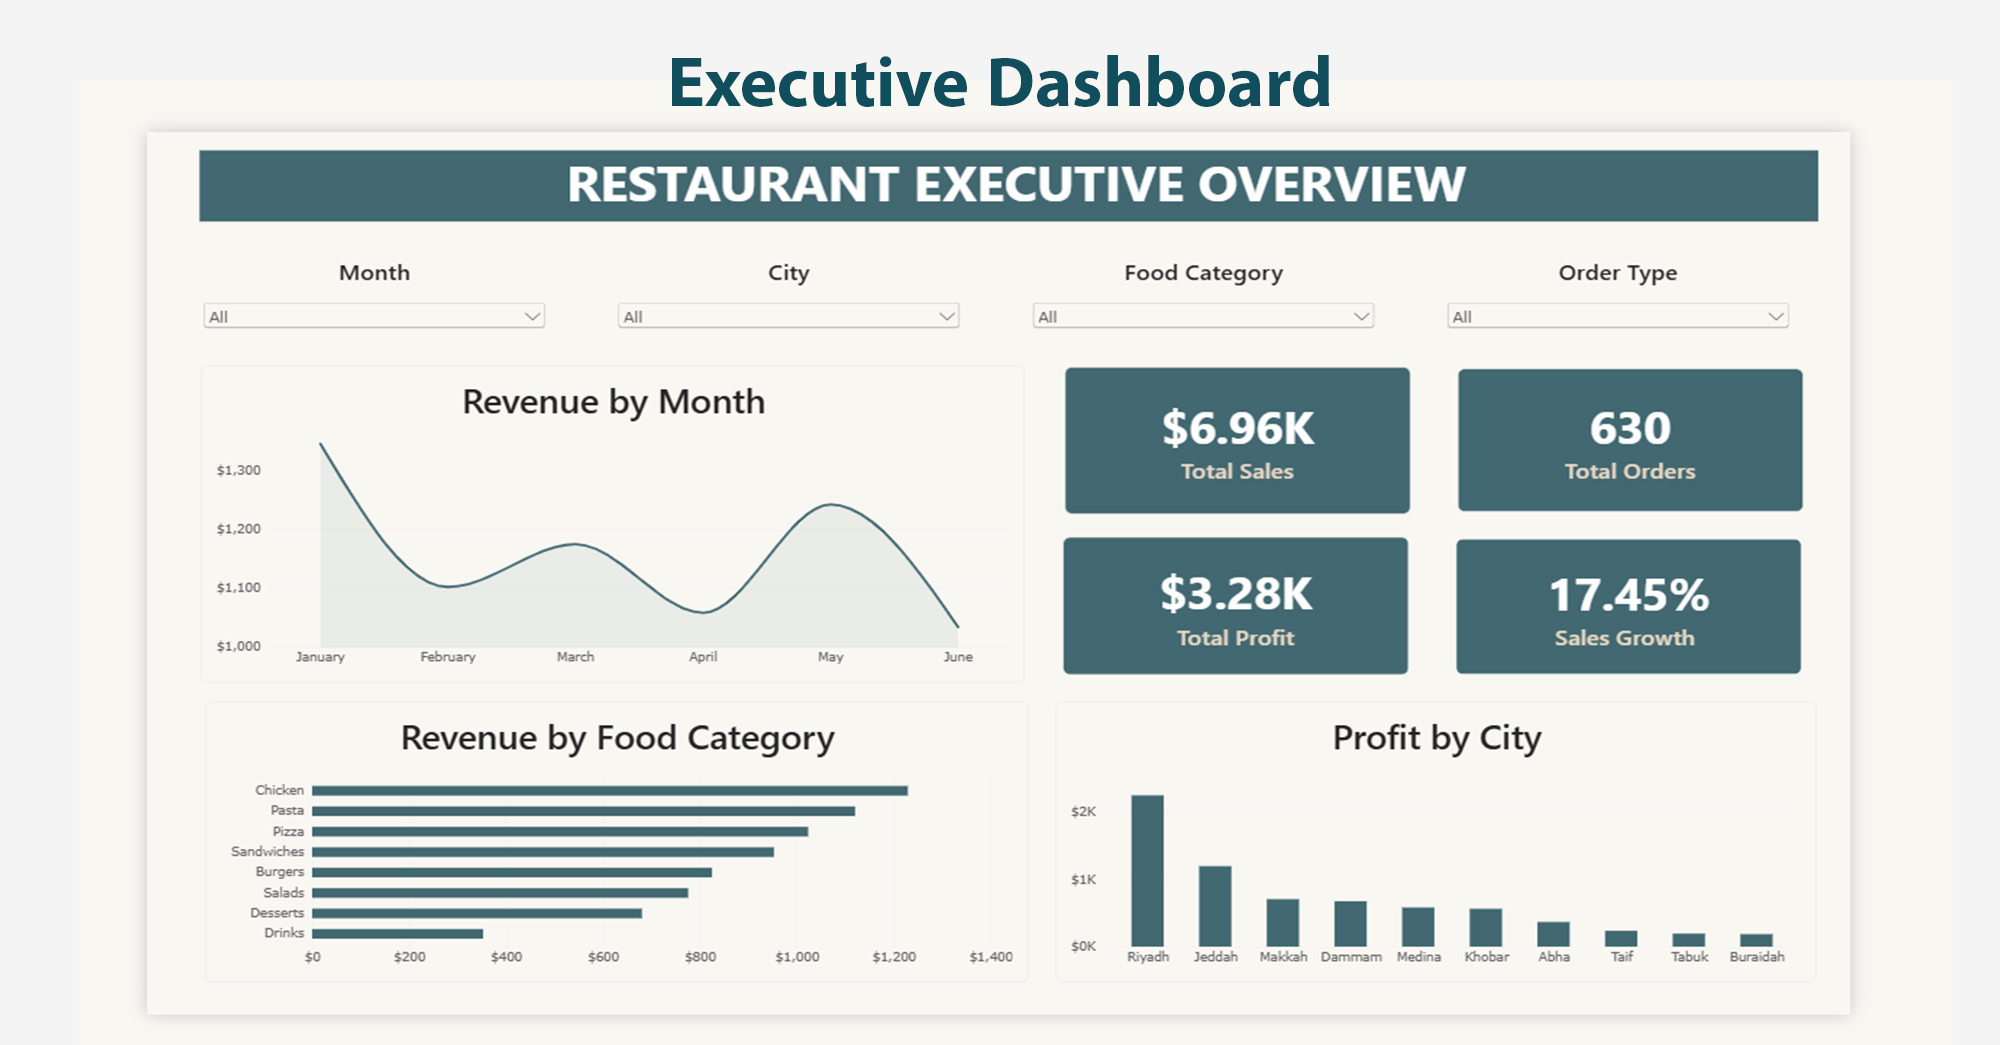

What the dashboard file says about the page in this screenshot:
{"tool":"powerbi","page":{"name":"EXECUTIVE ","canvas":[1920,1080],"ordinal":0},"visuals":[{"type":"lineChart","title":"Revenue by Month","fields":{"Y":["Measure Table.Total Sales"],"Category":["Calendar.Month"]},"box":[62,286.4,927.9,388.6],"z":0},{"type":"card","fields":{"Values":["Measure Table.Total Sales"]},"box":[1033.4,286.8,389.7,179.7],"z":0,"group":"g2"},{"type":"card","fields":{"Values":["Measure Table.Sales Growth %"]},"box":[1473.9,497.2,389.6,166.7],"z":0,"group":"g1"},{"type":"group","id":"g1","title":"Group 2","box":[1031.8,286.8,833.8,377.4],"z":1000},{"type":"group","id":"g2","title":"Group 1","box":[1031.8,286.8,833.8,377.4],"z":1000,"group":"g1"},{"type":"card","fields":{"Values":["Measure Table.Total Orders"]},"box":[1476,289.2,389.6,175],"z":1000,"group":"g2"},{"type":"card","fields":{"Values":["Measure Table.Total Profit"]},"box":[1031.8,495.5,389.6,168.8],"z":2000,"group":"g2"},{"type":"barChart","title":"Revenue by Food Category","fields":{"Category":["Restaurant Orders.Food Category"],"Y":["Measure Table.Total Sales"]},"box":[64.4,698.5,927.9,343.4],"z":2000},{"type":"columnChart","title":"Profit by City","fields":{"Category":["Restaurant Orders.City"],"Y":["Measure Table.Total Sales"]},"box":[1025.1,698.5,857.6,343.4],"z":3000},{"type":"textbox","box":[58.3,22.9,1825,87.5],"z":4000},{"type":"slicer","title":"Month","fields":{"Values":["Calendar.Month"]},"box":[58.3,152.1,394.6,92.6],"z":5000,"group":"g3"},{"type":"slicer","title":"City","fields":{"Values":["Restaurant Orders.City"]},"box":[525.6,152.1,394.6,92.6],"z":6000,"group":"g3"},{"type":"slicer","title":"Food Category","fields":{"Values":["Restaurant Orders.Food Category"]},"box":[992.9,152.1,394.6,92.6],"z":7000,"group":"g3"},{"type":"slicer","title":"Order Type","fields":{"Values":["Restaurant Orders.Order Type"]},"box":[1460.2,152.1,394.6,92.6],"z":8000,"group":"g3"},{"type":"group","id":"g3","title":"Group 3","box":[58.3,152.1,1795.8,93.8],"z":8001}]}

Visuals, with their boxes on the page's 1920x1080 design canvas (x1, y1, x2, y2). These are canvas units, not pixel positions in the 2000x1045 screenshot, which may show the page scaled, cropped or inside an application window:
"Revenue by Month" lineChart: l=62, t=286, r=990, b=675
card - Measure Table.Total Sales: l=1033, t=287, r=1423, b=466
card - Measure Table.Sales Growth %: l=1474, t=497, r=1864, b=664
"Group 2" group: l=1032, t=287, r=1866, b=664
"Group 1" group: l=1032, t=287, r=1866, b=664
card - Measure Table.Total Orders: l=1476, t=289, r=1866, b=464
card - Measure Table.Total Profit: l=1032, t=496, r=1421, b=664
"Revenue by Food Category" barChart: l=64, t=698, r=992, b=1042
"Profit by City" columnChart: l=1025, t=698, r=1883, b=1042
textbox: l=58, t=23, r=1883, b=110
"Month" slicer: l=58, t=152, r=453, b=245
"City" slicer: l=526, t=152, r=920, b=245
"Food Category" slicer: l=993, t=152, r=1388, b=245
"Order Type" slicer: l=1460, t=152, r=1855, b=245
"Group 3" group: l=58, t=152, r=1854, b=246
